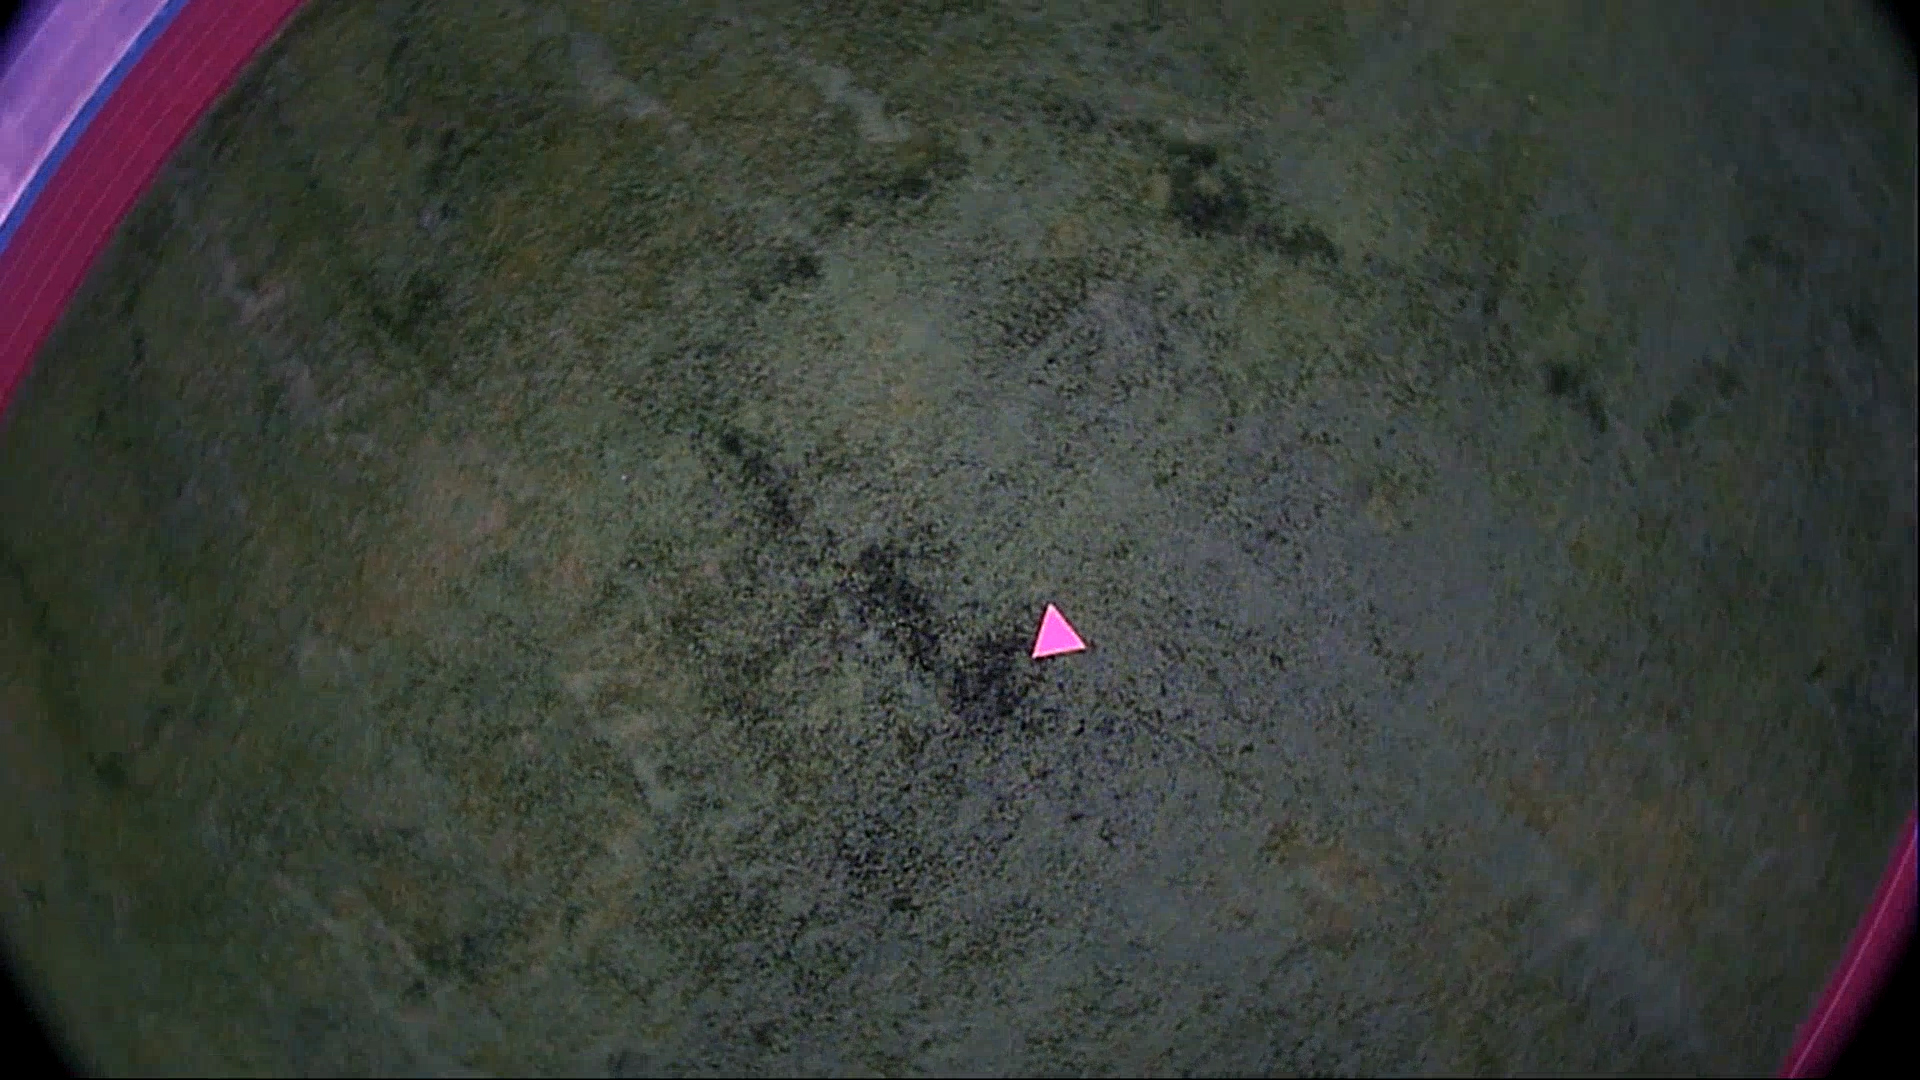triangle: (1023, 600, 1093, 661)
